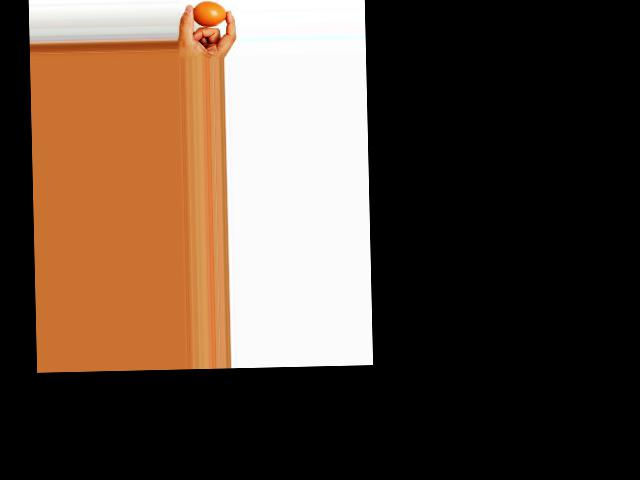egg: (192, 0, 227, 27)
